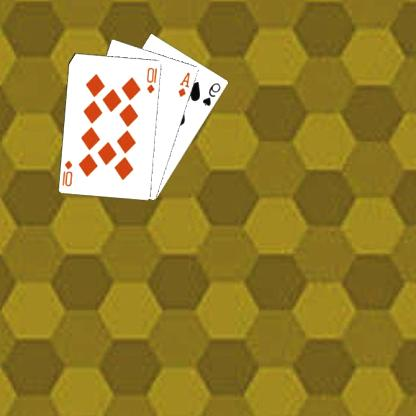10D: (61, 157, 76, 188), (146, 64, 160, 94)
9S: (202, 80, 224, 108)
AD: (178, 69, 193, 98)
